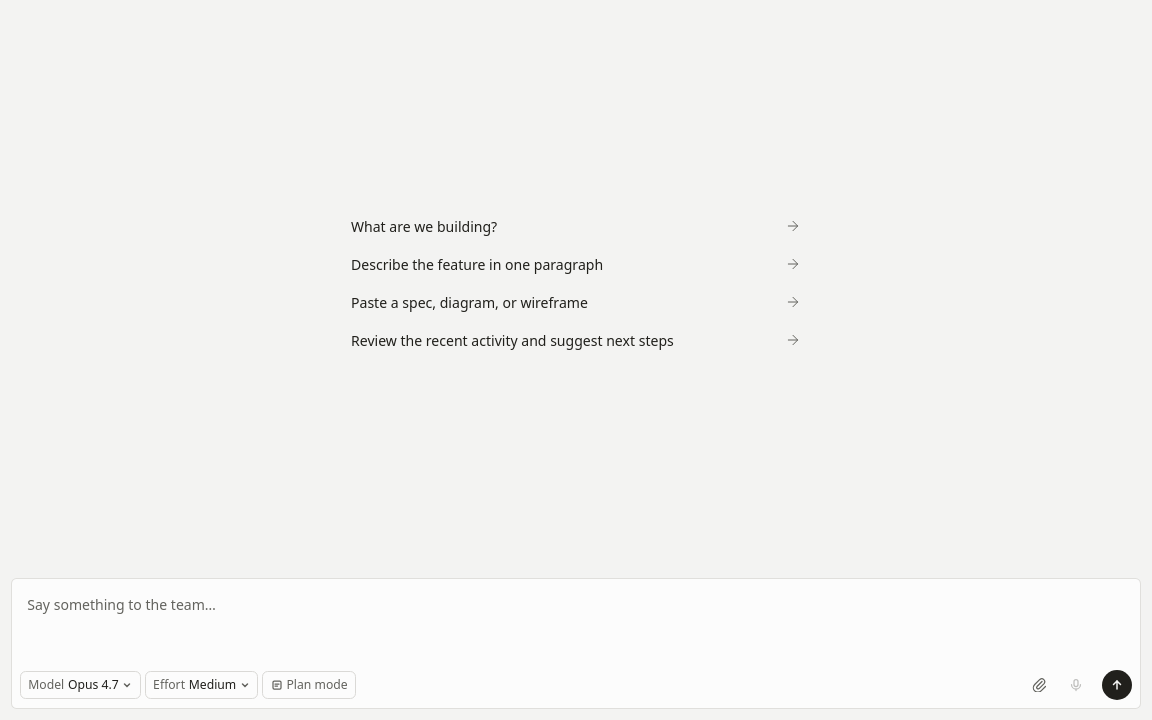
Test: WorkspaceThread → ipcClient.postMessage › posts a message with the workspace id, text, and (empty) attachments on send
Type "Build a sequence diagram" into the text box with class "compose__input" at (576, 625), box [20,586,1132,665]
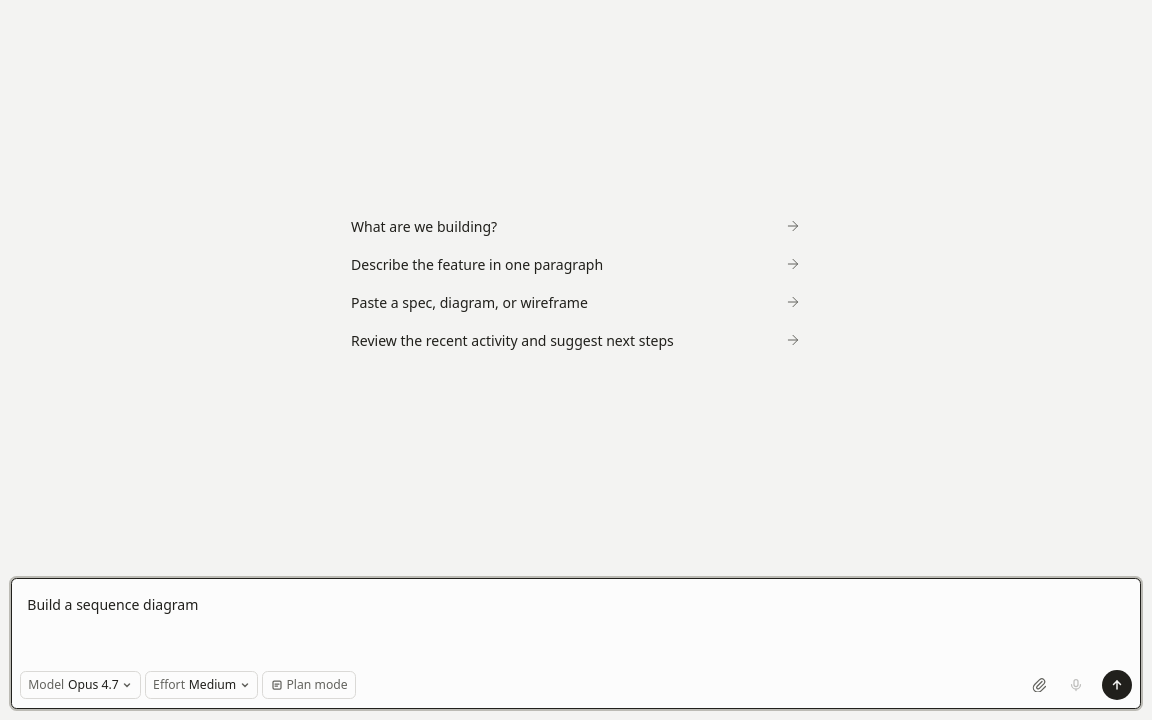
Click the button with class "btn-icon--primary" at (1117, 685), box [1102,670,1132,700]
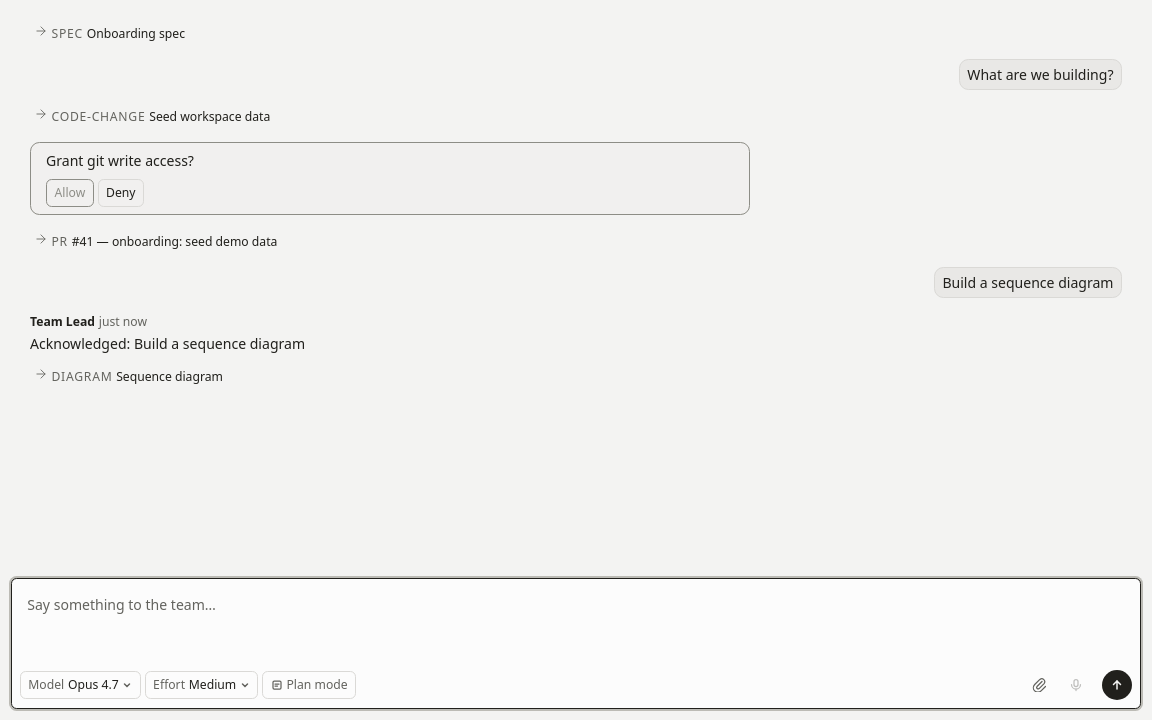
Check: the text "Build a sequence diagram" is shown, box [942,272,1114,293]
